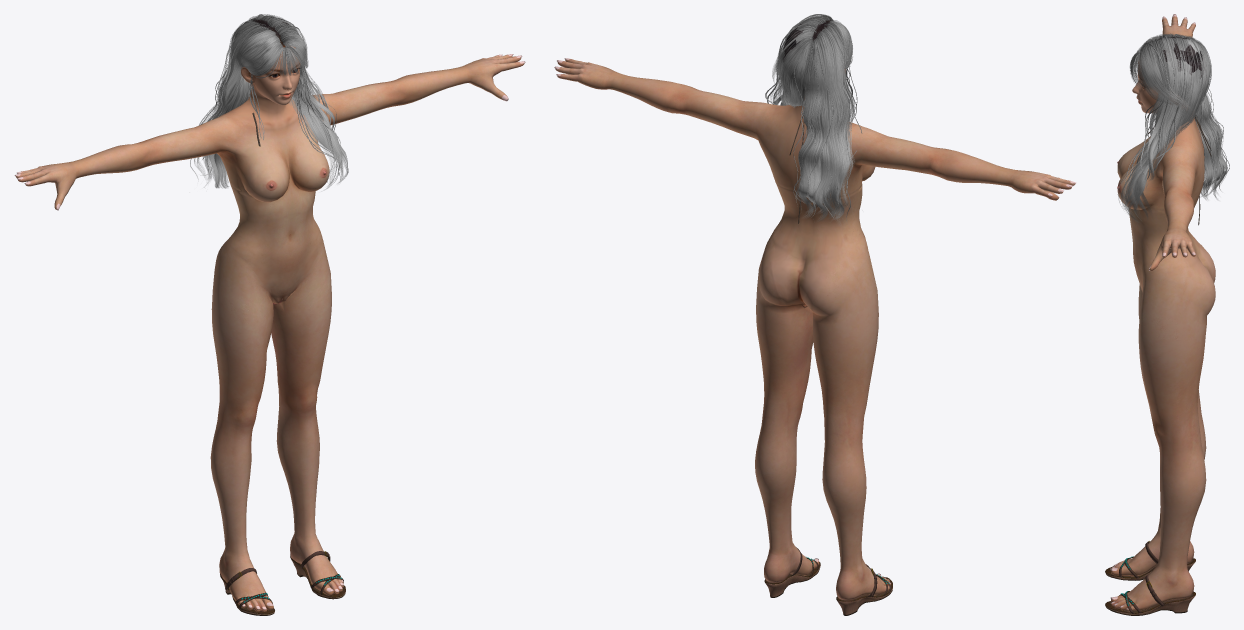
Rendered from model_japonese_3d.glb.
3 renders of one model, left to right at view 1: azimuth 30°, elevation 25°; view 2: azimuth 150°, elevation 25°; view 3: azimuth 270°, elevation 25°, orthographic. The views are drawn at different scales.
Parts seen in each view (by area): view 1: Object_lei_body_base.png.001_3, hair_6_9, Object_DLC_LEI_104_01_base.png_2; view 2: Object_lei_body_base.png.001_3, hair_6_9, Object_DLC_LEI_104_01_base.png_2; view 3: Object_lei_body_base.png.001_3, hair_6_9, Object_DLC_LEI_104_01_base.png_2.
Part boxes in pixels (x1,y1,x2,y2): Object_lei_body_base.png.001_3: (14,17,525,611); hair_6_9: (190,14,348,189); Object_DLC_LEI_104_01_base.png_2: (220,551,345,615); Object_lei_body_base.png.001_3: (554,20,1075,600); hair_6_9: (765,14,862,221); Object_DLC_LEI_104_01_base.png_2: (764,547,892,615); Object_lei_body_base.png.001_3: (1110,14,1215,611); hair_6_9: (1117,33,1229,222); Object_DLC_LEI_104_01_base.png_2: (1105,541,1195,615).
Size of the model in its own units: 2.32 by 2.5 by 0.5059.
Materials: 18 (18 with a texture image).
